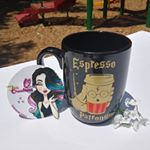cups: (33, 26, 135, 131)
